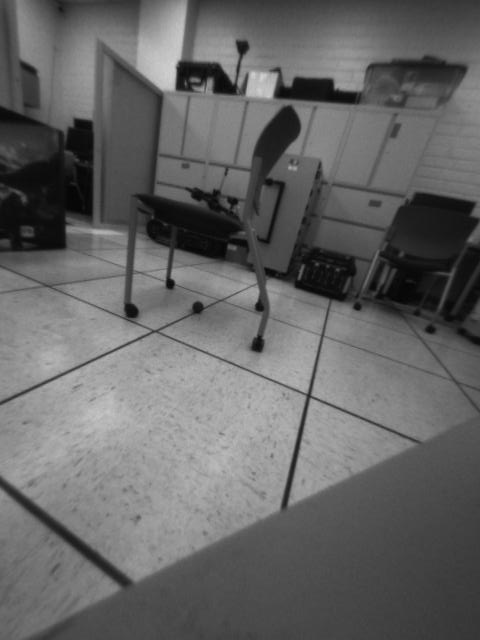dogtoy: (184, 296, 209, 317)
